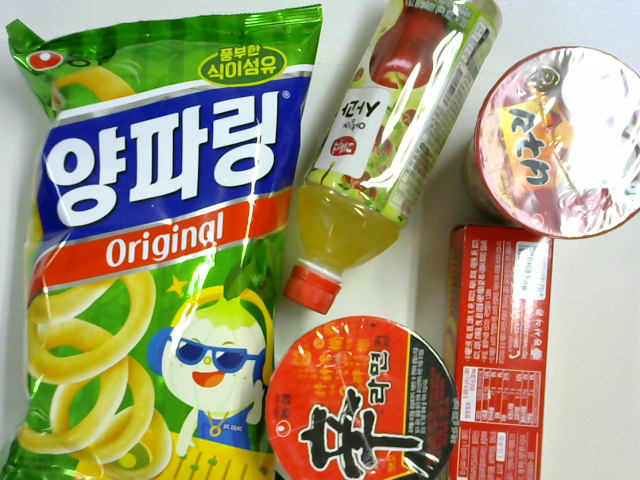Morning_Apple_500ml: (284, 1, 504, 316)
Oninon_Ring: (1, 4, 323, 480)
Raccoon: (464, 47, 640, 238)
Ritz_Cracker: (449, 225, 559, 480)
Sinramen_small: (264, 316, 460, 480)
